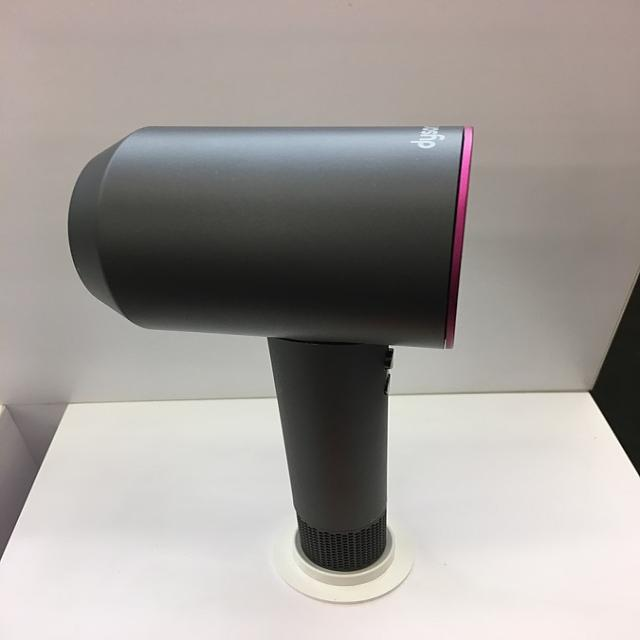dryer: (68, 125, 474, 572)
